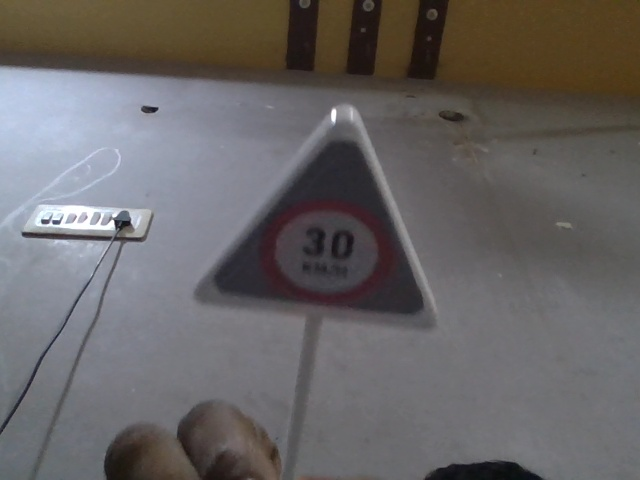speedlimit: (198, 84, 430, 338)
